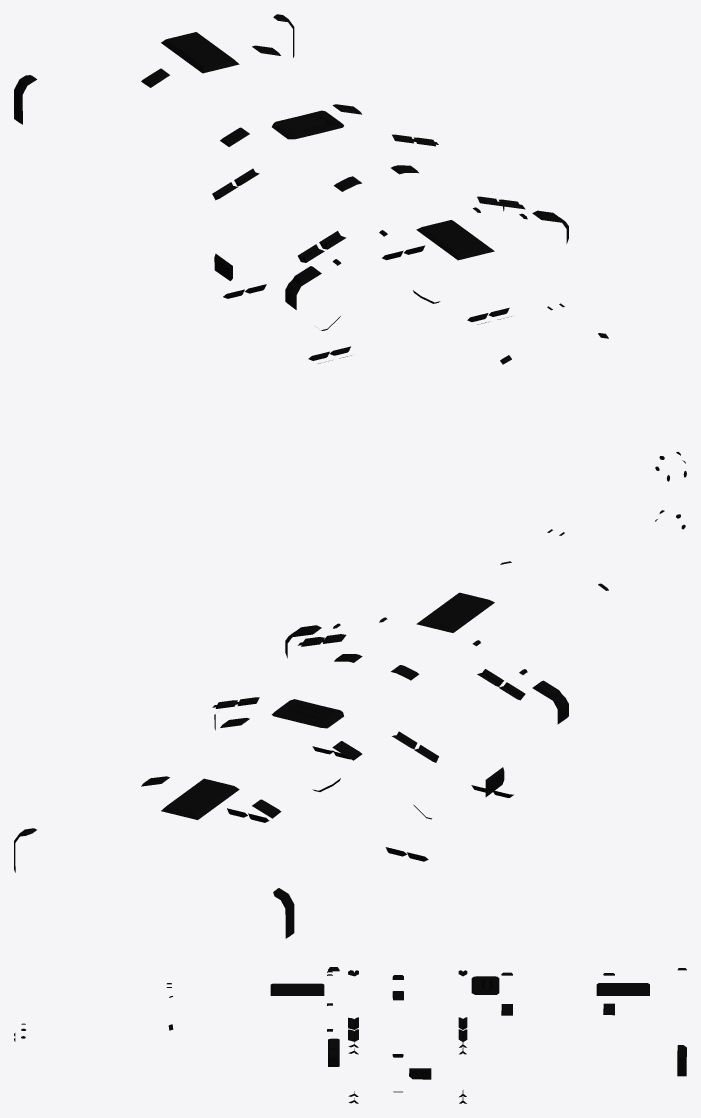
The model's file is tan_cf_frei_01_t1.glb.
3 views of the same model, one above another, from view 1: azimuth 30°, elevation 25°; view 2: azimuth 150°, elevation 25°; view 3: azimuth 270°, elevation 25° (orthographic). The views are drawn at different scales.
Parts seen in each view (by area): view 1: tan_civ_03_LOD0; view 2: tan_civ_03_LOD0; view 3: tan_civ_03_LOD0.
Boxes of the visible parts, left/top/right/bottom form: tan_civ_03_LOD0: left=14, top=14, right=686, bottom=481; tan_civ_03_LOD0: left=14, top=510, right=685, bottom=938; tan_civ_03_LOD0: left=14, top=967, right=686, bottom=1103.
Size of what is drawn, in the model's own units: 2.74 by 1.33 by 9.01.
Materials: 1 (1 with a texture image).
